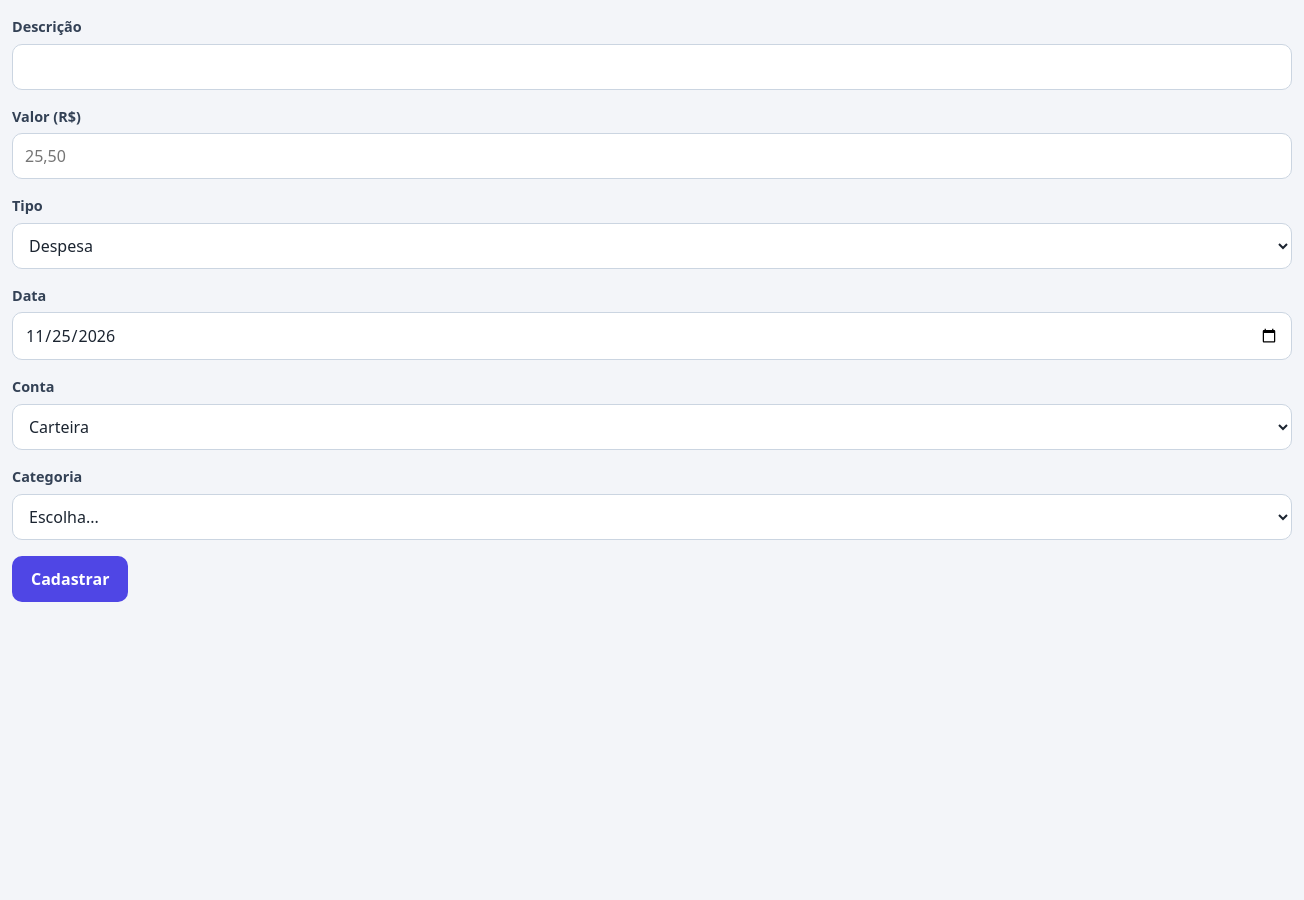
FormLancamento › mostra mensagem de validação ao enviar vazio
This screenshot has width=1304, height=900.
What coordinates should you click on to do the following:
click the button "Cadastrar"
I would click on:
 (70, 579)
Its box is [12, 556, 128, 602].
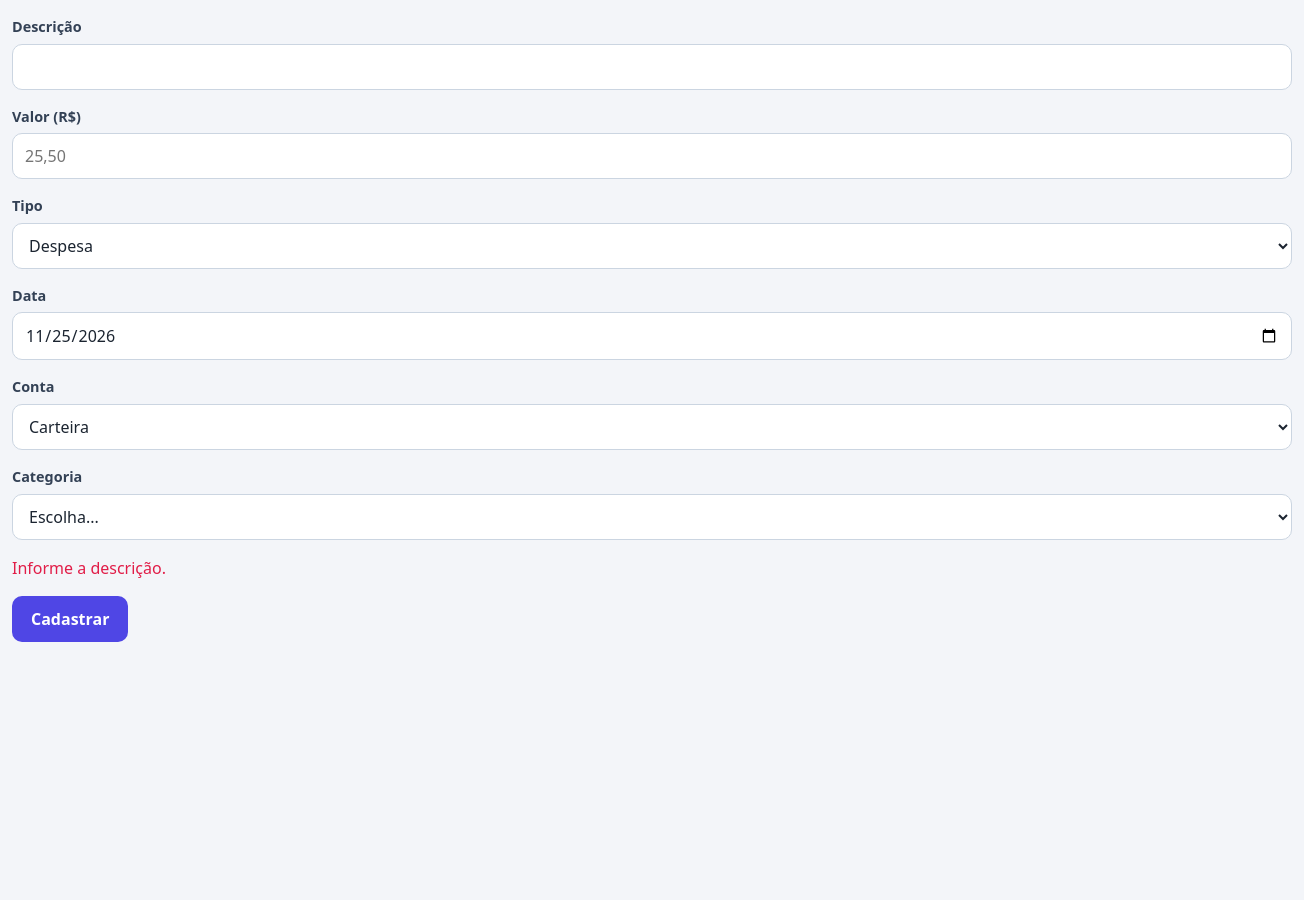
Expected: the text "Informe a descrição." is shown, [12, 557, 166, 579]
